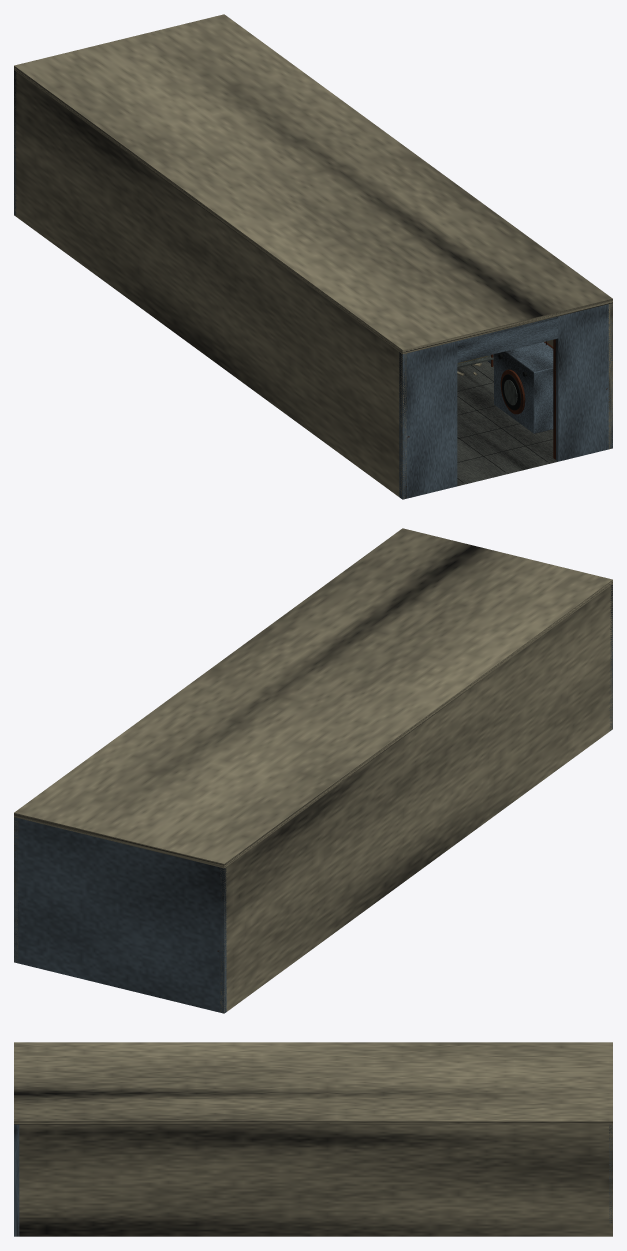
File: laundry.glb
3 renders of one model, top to bottom at view 1: azimuth 30°, elevation 25°; view 2: azimuth 150°, elevation 25°; view 3: azimuth 270°, elevation 25°, orthographic. The views are drawn at different scales.
Parts seen in each view (by area): view 1: static-plaster, static-paint, static-stone, static-dark, static-rust; view 2: static-plaster, static-paint; view 3: static-plaster, static-paint.
Boxes of the visible parts, left/top/right/bottom form: static-plaster: left=14, top=14, right=612, bottom=499; static-paint: left=14, top=70, right=612, bottom=499; static-stone: left=457, top=361, right=557, bottom=486; static-dark: left=457, top=353, right=552, bottom=482; static-rust: left=407, top=339, right=607, bottom=459; static-plaster: left=14, top=528, right=612, bottom=1013; static-paint: left=14, top=584, right=612, bottom=1013; static-plaster: left=14, top=1042, right=612, bottom=1236; static-paint: left=14, top=1124, right=612, bottom=1236.
Size of the model in its own units: 5 by 3.4 by 16.
14 materials, 10 textured.
